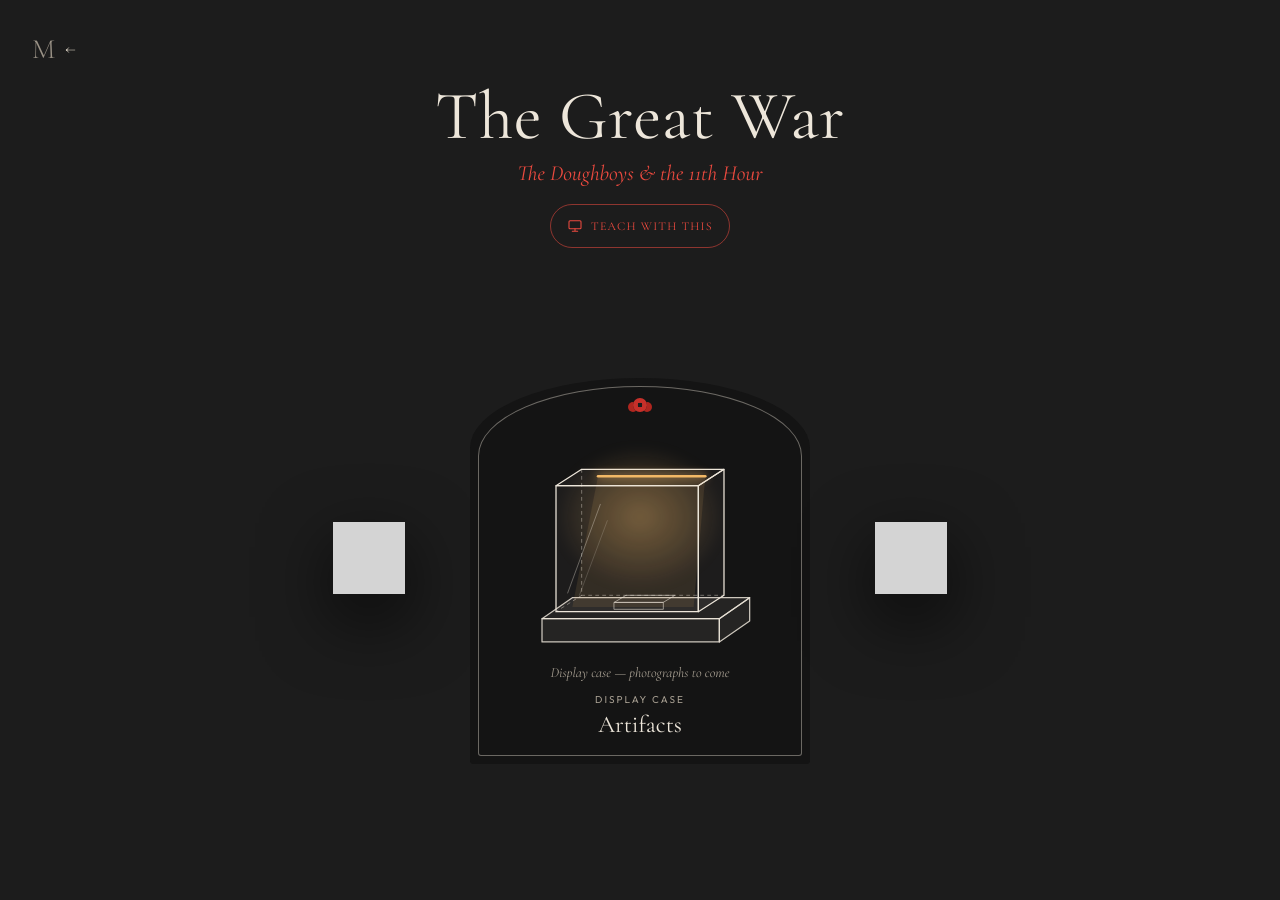
Test: The Great War › the walkthrough › sets the date and time at the foot of the first poster’s title, and opens the display case from the landing page
Expected: the heading "The Great War" is shown, [435,81,845,152]
What coordinates should you click on to do the following:
click the 1st button named "The Doughboys: America's Sons in The Great War poster"
I would click on:
 (369, 571)
Its box is [307,522,432,620].
Wait 400 ms
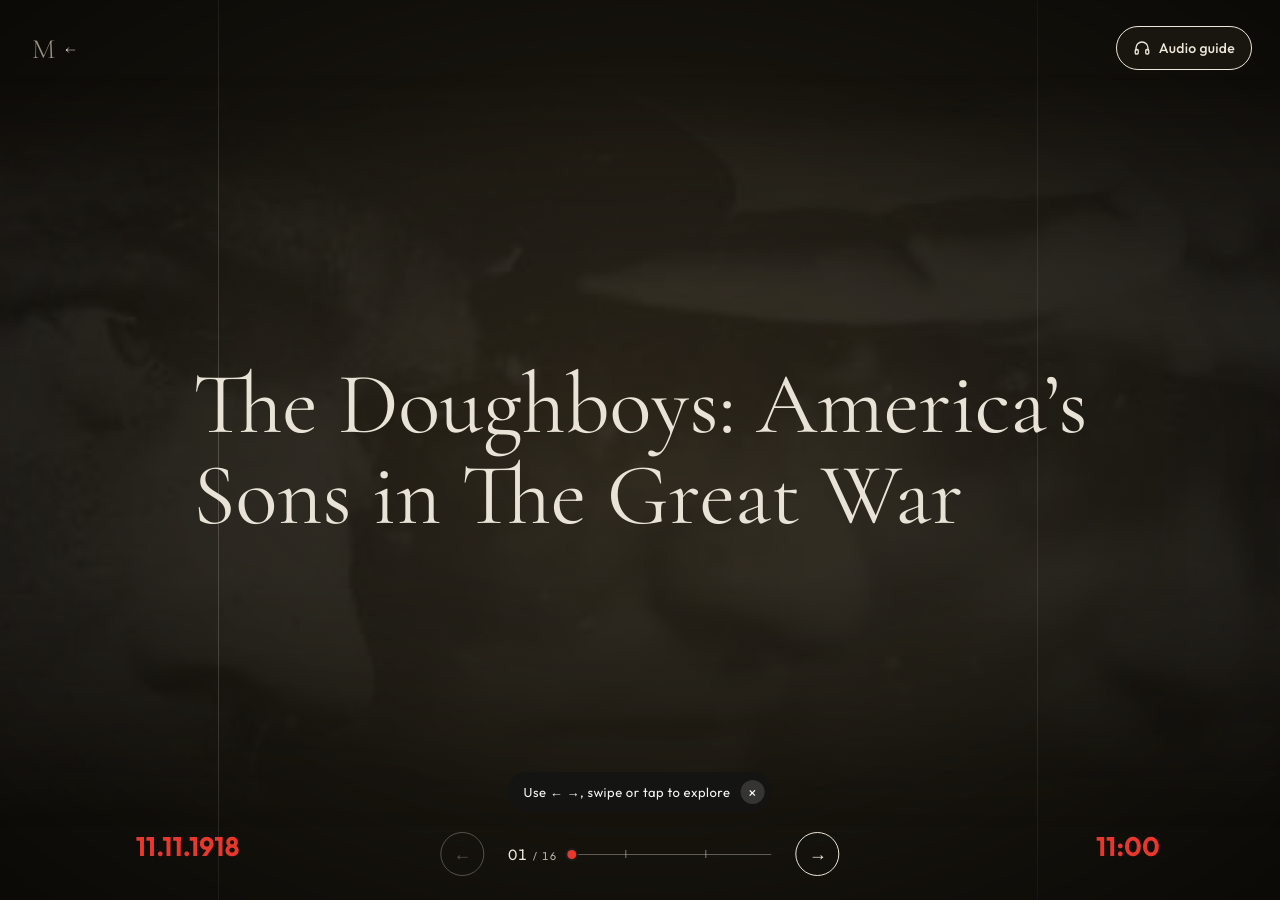
Result: the element showing "11.11.1918 11:00" is shown at [136,834,1160,860]
